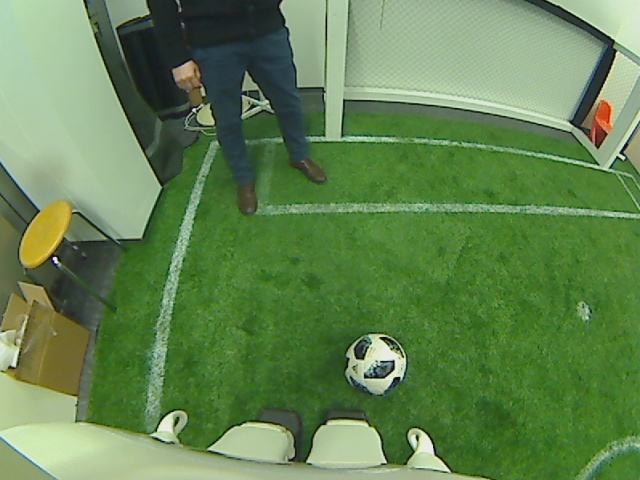ball: (341, 330, 407, 397)
